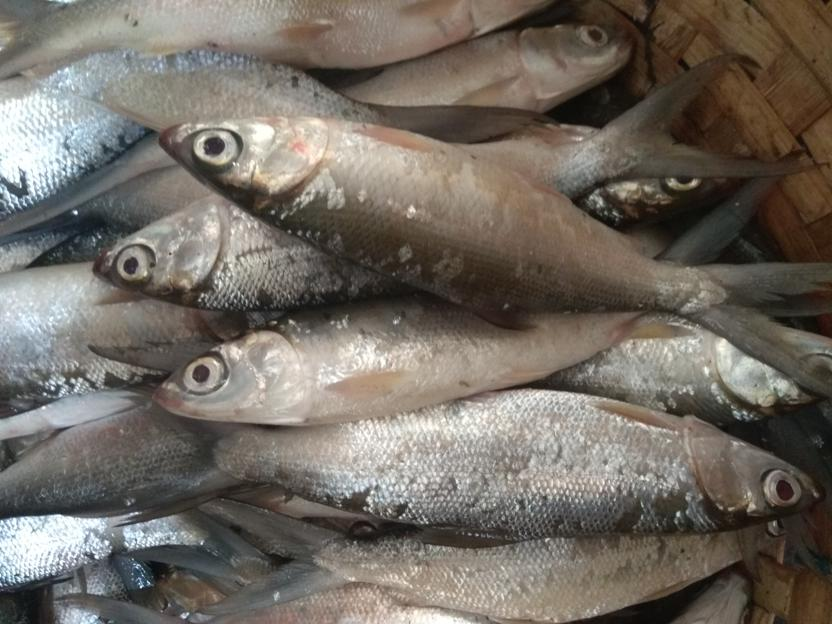Fish head: (158, 113, 330, 216), (679, 410, 819, 532), (150, 326, 308, 428), (92, 192, 226, 307), (713, 325, 832, 419), (517, 23, 633, 104)
Fish tail: (608, 52, 820, 178), (105, 374, 249, 518), (697, 258, 832, 400), (187, 496, 344, 616), (656, 144, 810, 262), (121, 507, 274, 587), (362, 103, 562, 140), (56, 591, 188, 624), (88, 342, 221, 372)
